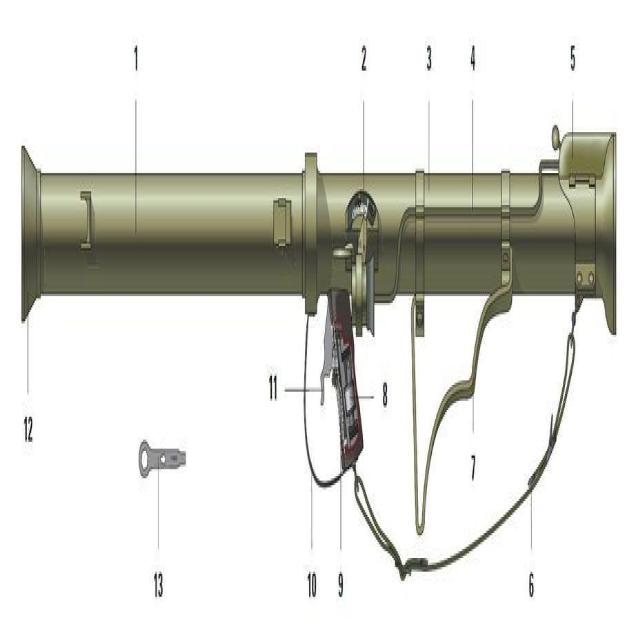bazooka: (17, 112, 625, 529)
